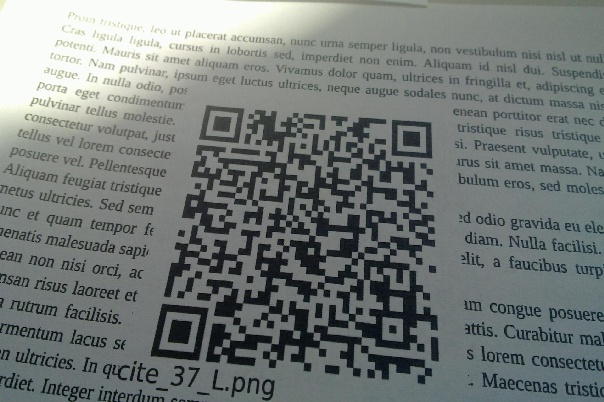code: (151, 105, 439, 384)
